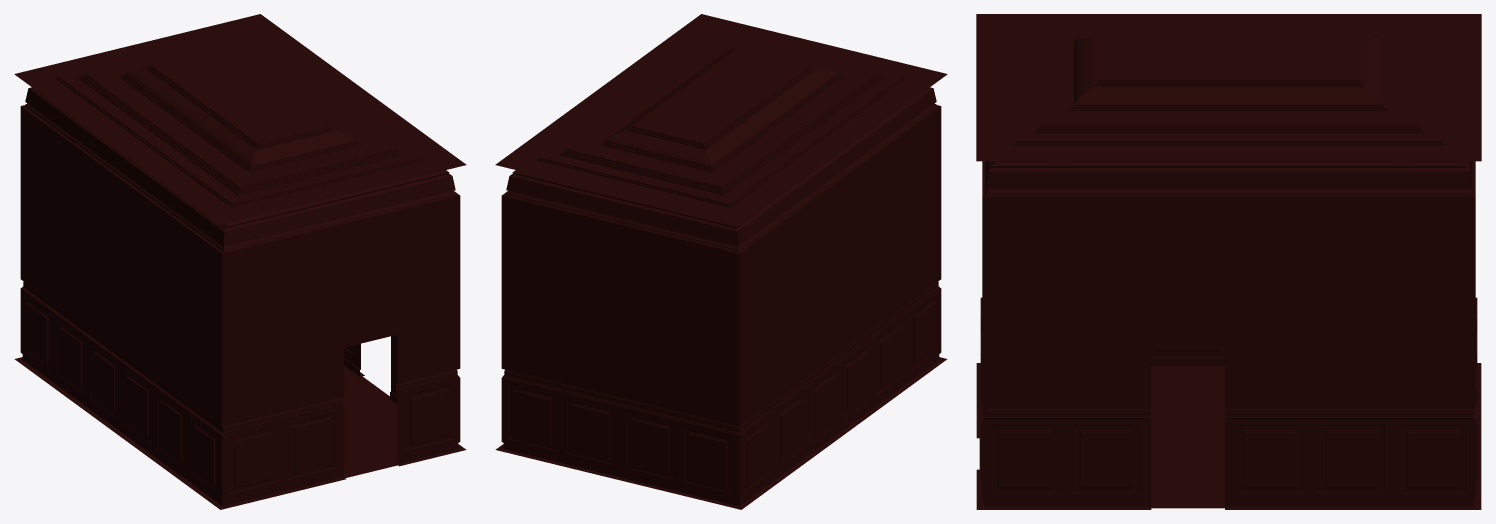
Rendered from 2door_1.FBX.
The picture shows the model from 3 angles, left to right: view 1: azimuth 30°, elevation 25°; view 2: azimuth 150°, elevation 25°; view 3: azimuth 270°, elevation 25°; orthographic projection. The views are drawn at different scales.
Parts seen in each view (by area): view 1: wall, ceiling, floor; view 2: wall, ceiling, floor; view 3: wall, ceiling, floor.
Boxes of the visible parts, bbox=[...] form: wall: bbox=[14, 14, 466, 509]; ceiling: bbox=[16, 24, 464, 224]; floor: bbox=[19, 358, 461, 508]; wall: bbox=[495, 14, 947, 509]; ceiling: bbox=[497, 24, 945, 224]; floor: bbox=[500, 358, 942, 508]; wall: bbox=[976, 14, 1481, 509]; ceiling: bbox=[976, 14, 1481, 161]; floor: bbox=[979, 364, 1478, 508].
Size of the model in its own units: 160 by 232 by 192.
